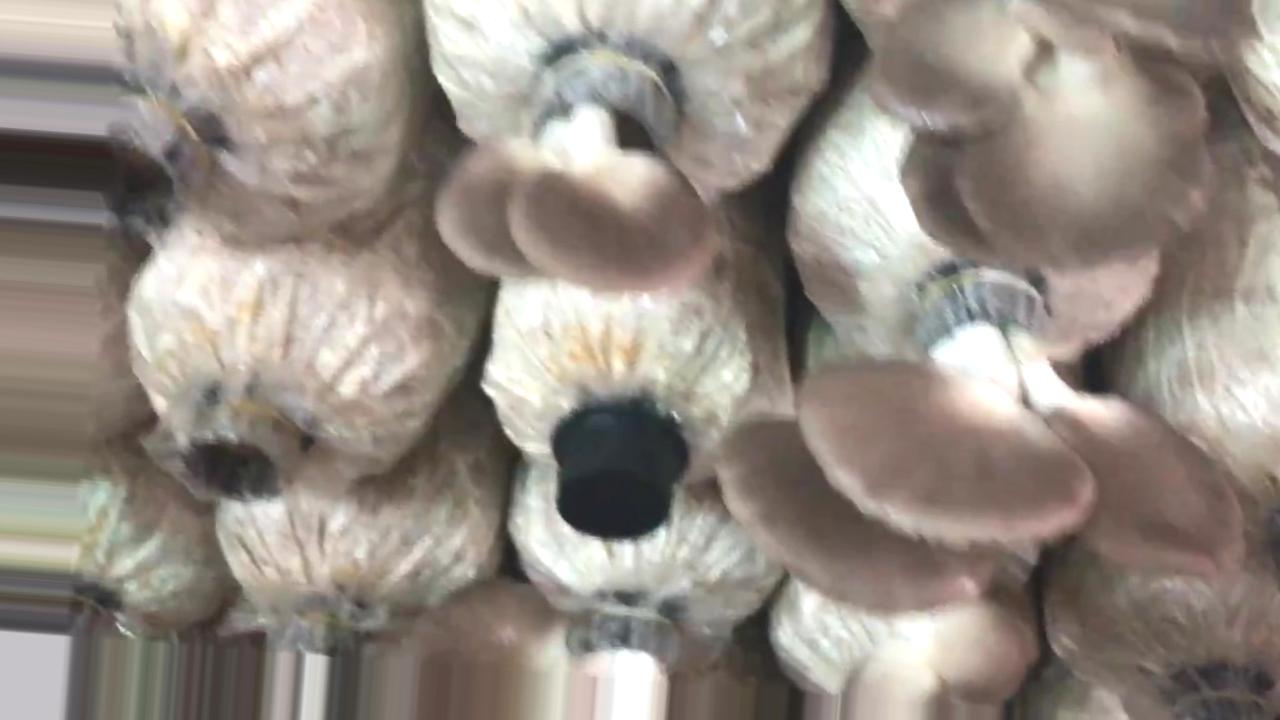nam: (727, 267, 1238, 609), (873, 1, 1259, 266), (438, 41, 714, 295)
